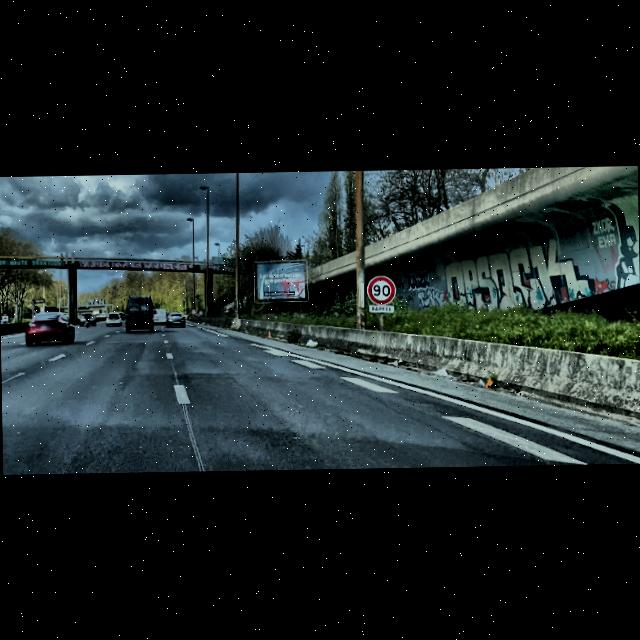speed_90: (364, 275, 396, 305)
